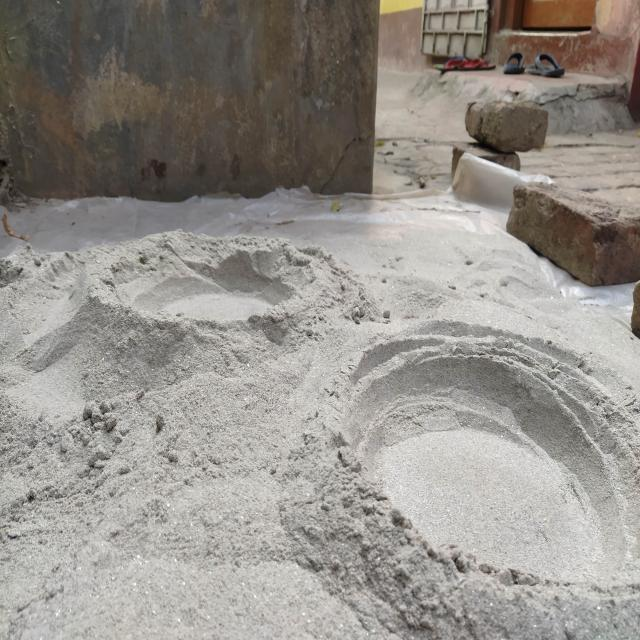C20: (348, 345, 640, 589), (112, 234, 334, 342)
